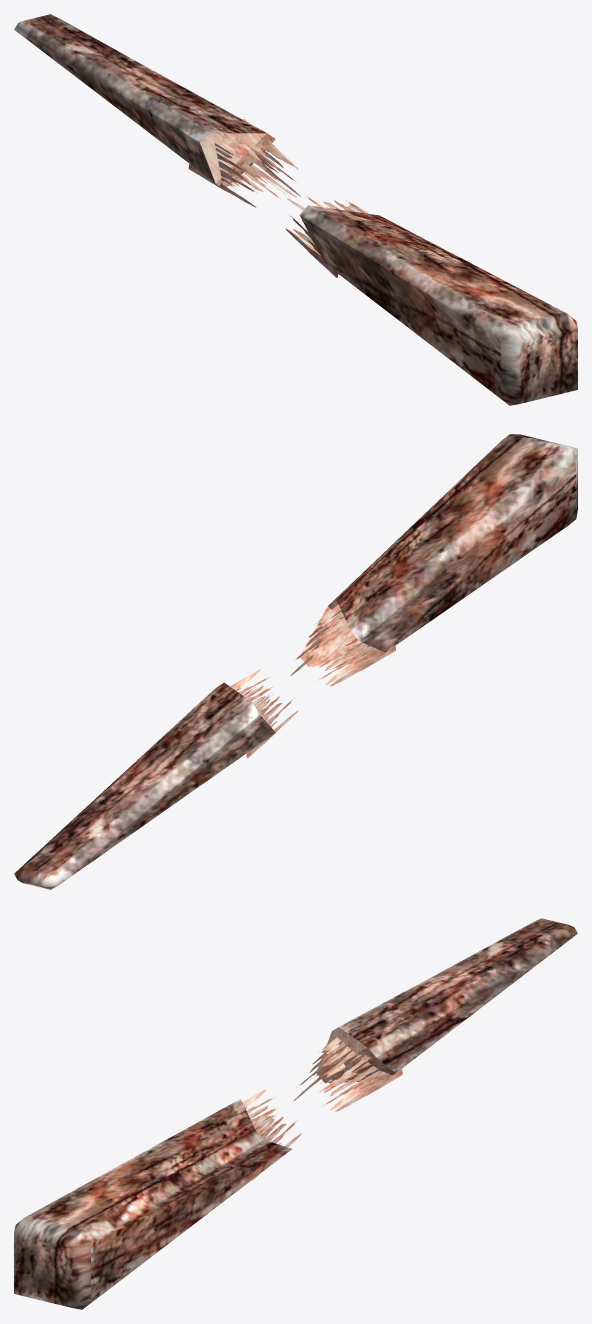
File: wood_blocking_pulley_broken.dae
3 renders of one model, top to bottom at view 1: azimuth 30°, elevation 25°; view 2: azimuth 150°, elevation 25°; view 3: azimuth 330°, elevation 25°, orthographic.
Parts seen in each view (by area): view 1: back, front1; view 2: back, front1; view 3: back, front1.
Part boxes in pixels (box(x1,y1,x2,y2)): back: box(285, 195, 577, 405); front1: box(14, 14, 300, 207); back: box(290, 434, 577, 686); front1: box(14, 669, 298, 889); back: box(14, 1089, 301, 1309); front1: box(293, 918, 577, 1111).
Size of the model in its own units: 0.0934 by 0.0925 by 1.11.
